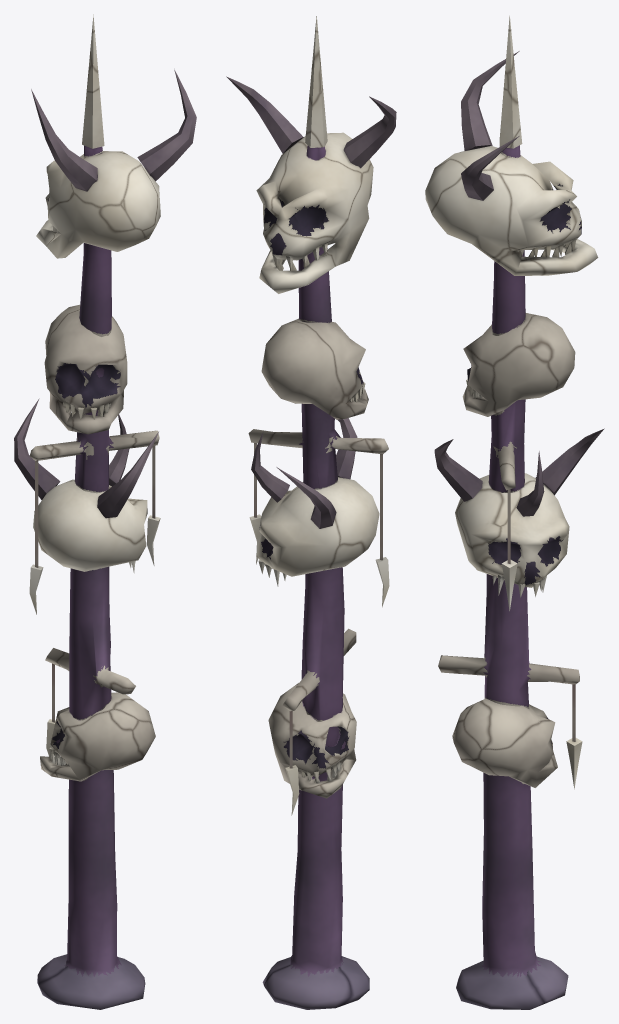
The model's file is poste_trofeos.fbx.
3 renders of one model, left to right at view 1: azimuth 30°, elevation 25°; view 2: azimuth 150°, elevation 25°; view 3: azimuth 270°, elevation 25°, orthographic.
Visible parts, largest first — view 1: poste; view 2: poste; view 3: poste.
Part boxes in pixels (x1,y1,x2,y2): poste: (14, 14, 196, 1009); poste: (226, 16, 396, 1009); poste: (425, 15, 604, 1009).
Bounding box in the file's own units: 1 × 6 × 1.
1 material, 1 textured.
